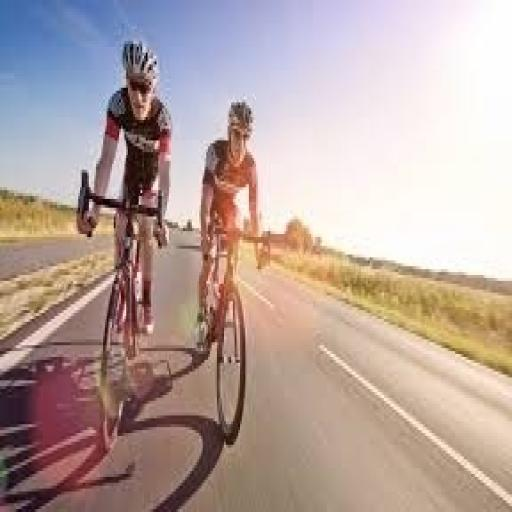cycling: (78, 38, 176, 348), (192, 97, 265, 354)
